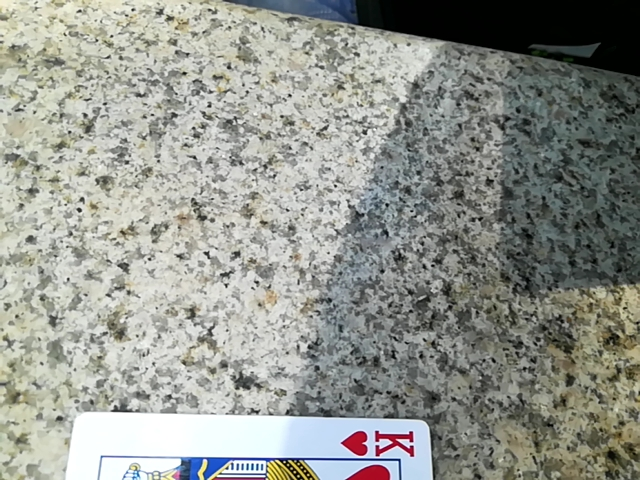hx k: (57, 413, 429, 477)
